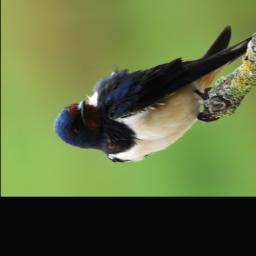Swallow: (38, 22, 256, 172)
